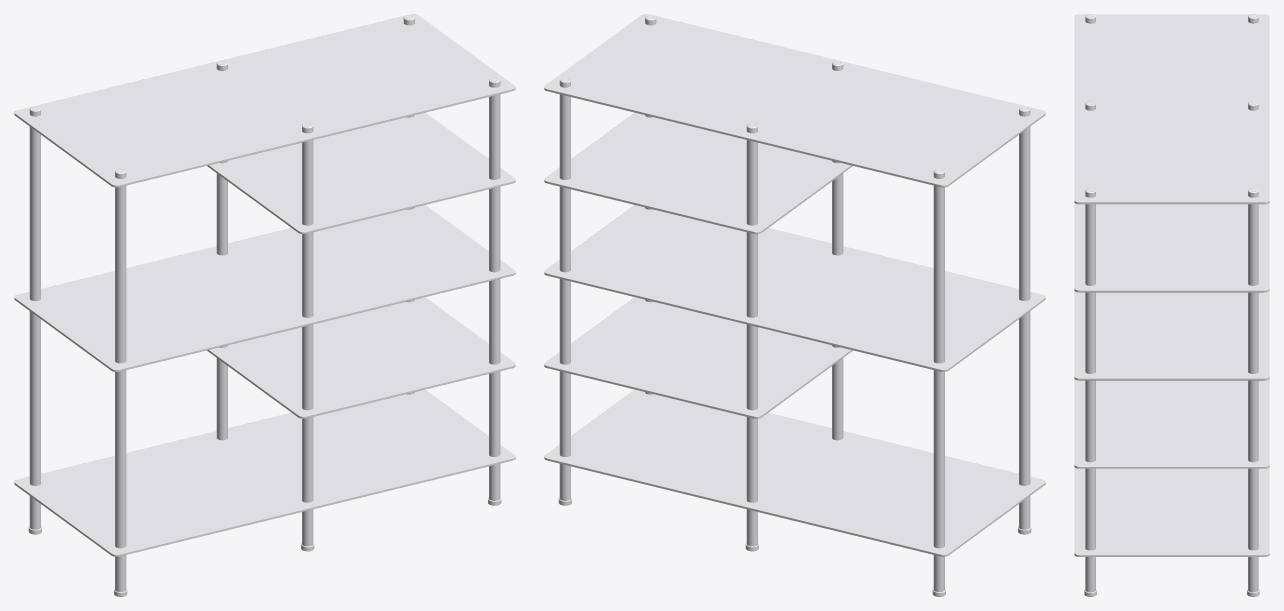
3 views of the same model, side by side, from view 1: azimuth 30°, elevation 25°; view 2: azimuth 150°, elevation 25°; view 3: azimuth 270°, elevation 25° (orthographic). The views are drawn at different scales.
Visible parts, largest first — view 1: 2482131 Glossy; view 2: 2482131 Glossy; view 3: 2482131 Glossy.
Boxes of the visible parts, box(x1,y1,x2,y2) form: 2482131 Glossy: box(14, 14, 515, 596); 2482131 Glossy: box(544, 14, 1045, 596); 2482131 Glossy: box(1074, 14, 1269, 596).
Bounding box in the file's own units: 0.82 × 0.822 × 0.36.
1 material, 1 textured.
